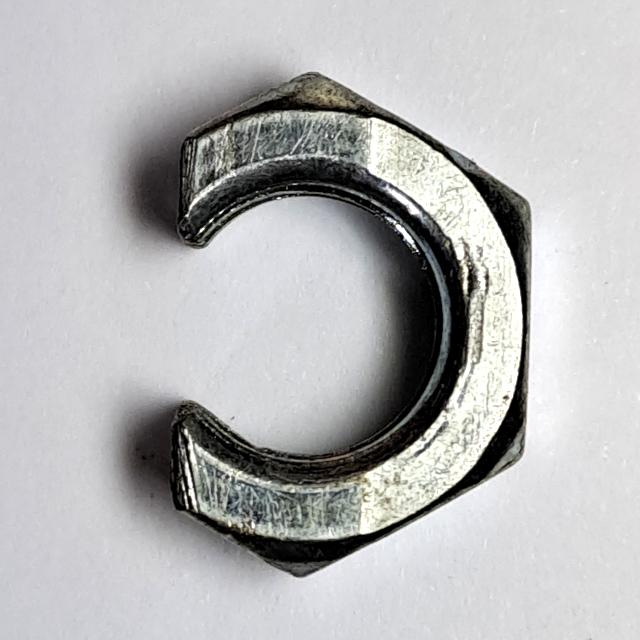Fracture: (156, 60, 550, 597)
